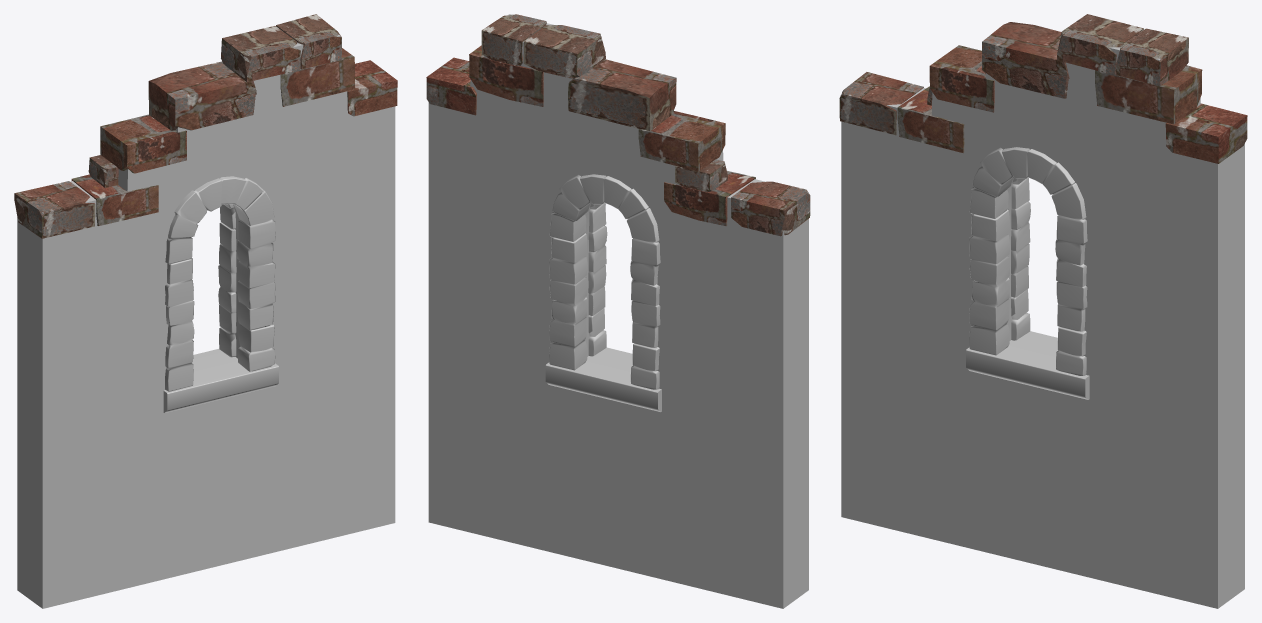
The model's file is SM_Window_01_Ruined_01.fbx.
3 views of the same model, side by side, from view 1: azimuth 30°, elevation 25°; view 2: azimuth 150°, elevation 25°; view 3: azimuth 330°, elevation 25° (orthographic). The views are drawn at different scales.
Visible parts, largest first — view 1: SM_Window_01_Ruined_01_LOD0; view 2: SM_Window_01_Ruined_01_LOD0; view 3: SM_Window_01_Ruined_01_LOD0.
Part boxes in pixels (<box>): SM_Window_01_Ruined_01_LOD0: <box>14,14,397,608</box>; SM_Window_01_Ruined_01_LOD0: <box>426,14,810,608</box>; SM_Window_01_Ruined_01_LOD0: <box>839,14,1247,608</box>.
Size of what is drawn, in the model's own units: 404 by 545 by 65.67.
